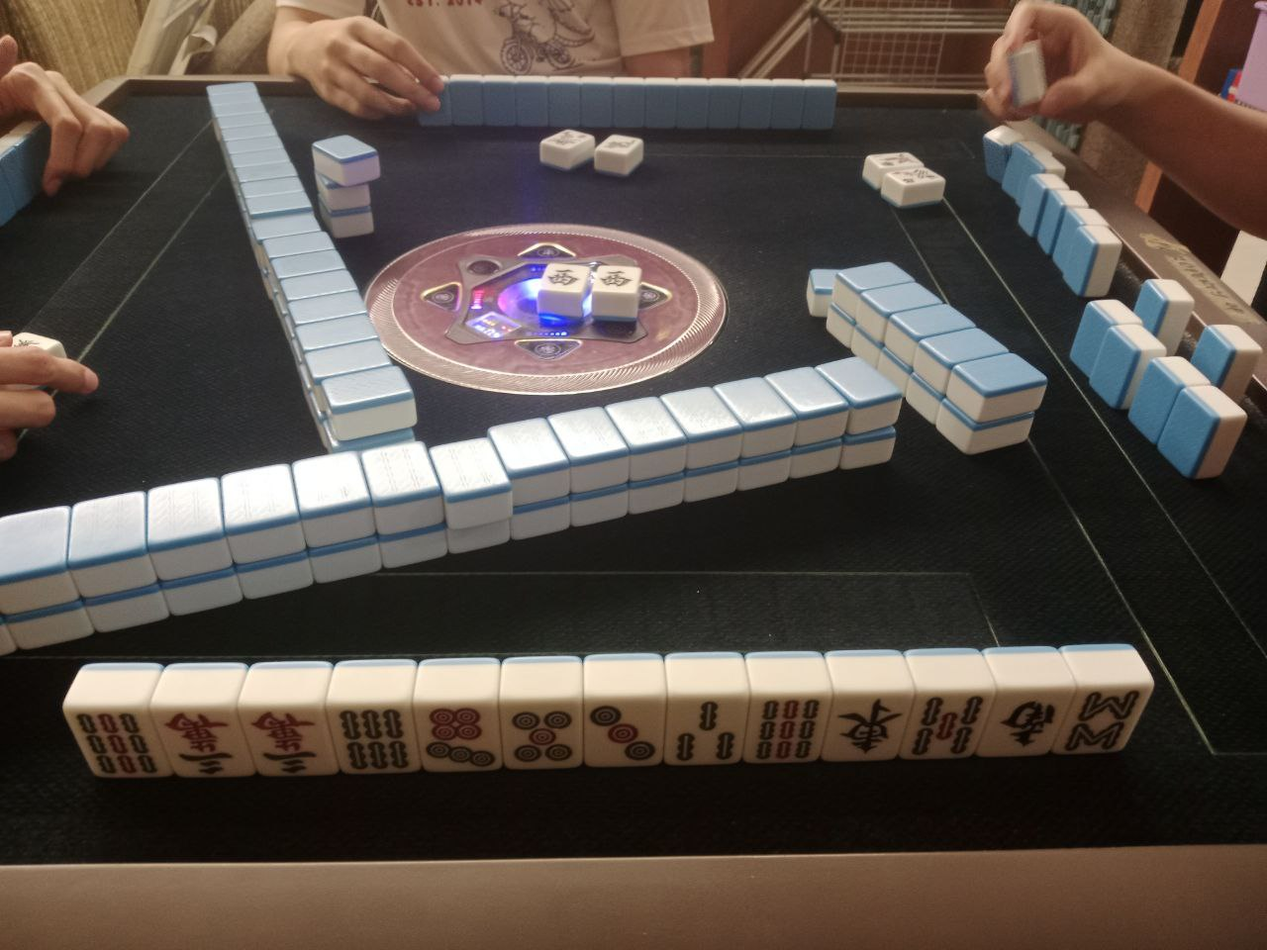TILE: (147, 704, 256, 779), (324, 697, 423, 774), (62, 708, 166, 780), (237, 705, 339, 777), (906, 689, 994, 764), (825, 688, 914, 762), (1062, 684, 1147, 757), (414, 700, 501, 770), (989, 682, 1069, 758), (500, 695, 583, 767), (746, 693, 830, 764), (584, 698, 669, 765), (667, 694, 746, 766)
